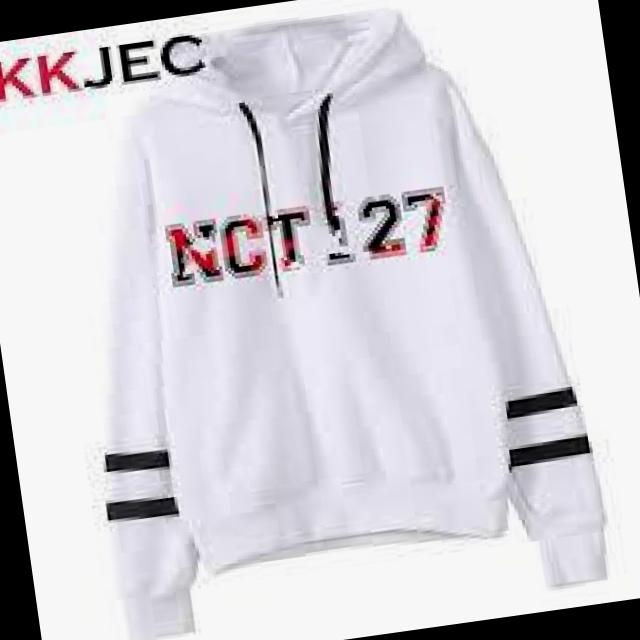sweater: (34, 0, 617, 640)
